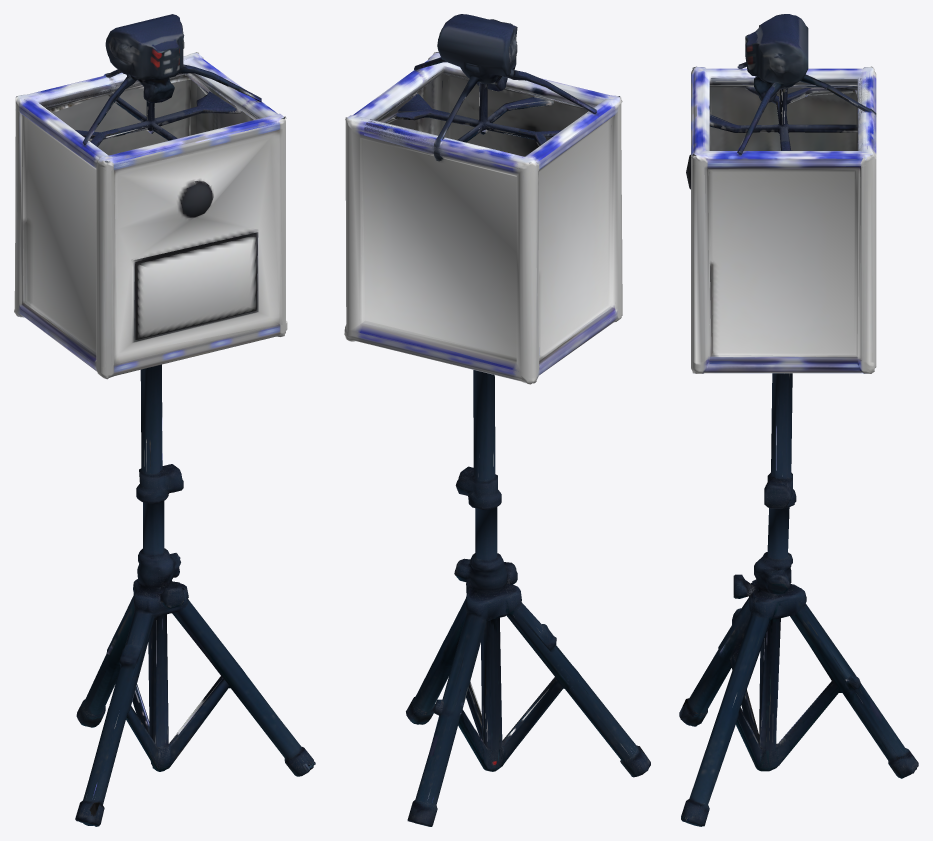
The model's file is photo_booth_setup_0125194121_texture.glb.
3 views of the same model, side by side, from view 1: azimuth 30°, elevation 25°; view 2: azimuth 150°, elevation 25°; view 3: azimuth 270°, elevation 25° (orthographic).
Visible parts, largest first — view 1: Mesh_0; view 2: Mesh_0; view 3: Mesh_0.
Part boxes in pixels (x1,y1,x2,y2): Mesh_0: (14,14,315,826); Mesh_0: (344,14,650,826); Mesh_0: (679,14,918,826).
Size of the model in its own units: 0.5038 by 1.52 by 0.4412.
Materials: 1 (1 with a texture image).
